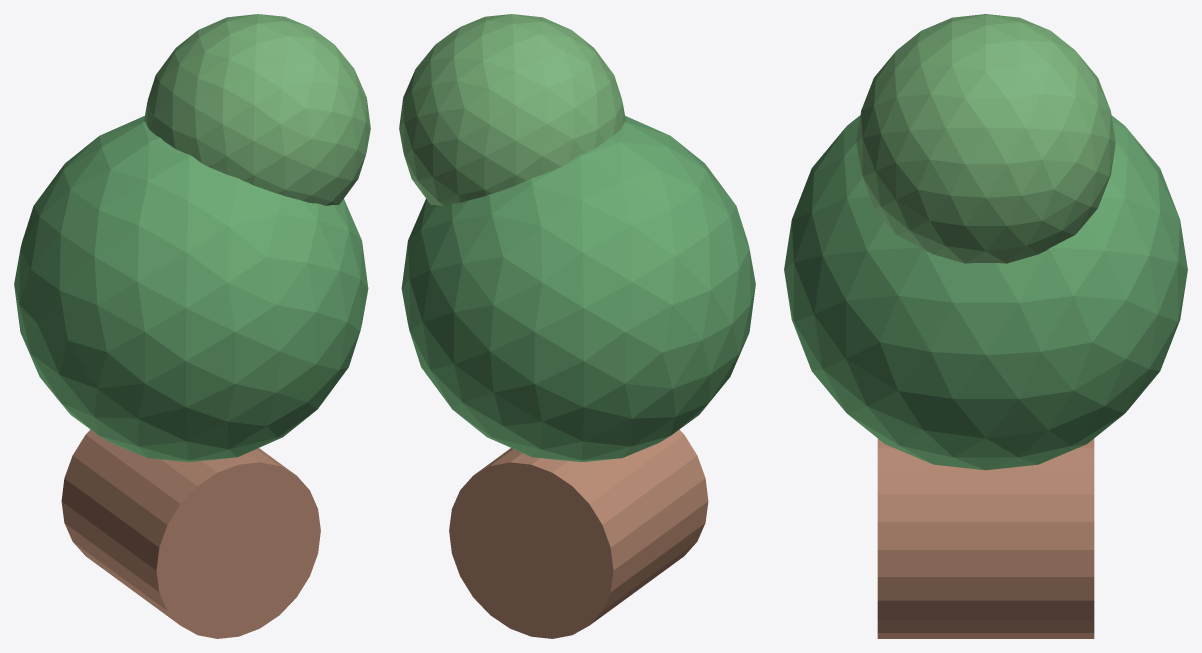
The model's file is plant.glb.
3 views of the same model, side by side, from view 1: azimuth 30°, elevation 25°; view 2: azimuth 150°, elevation 25°; view 3: azimuth 270°, elevation 25° (orthographic). The views are drawn at different scales.
Visible parts, largest first — view 1: geometry_1, geometry_0, geometry_2; view 2: geometry_1, geometry_0, geometry_2; view 3: geometry_1, geometry_2, geometry_0.
Boxes of the visible parts, x1=… form: geometry_1: x1=14, y1=116, x2=368, y2=461; geometry_0: x1=61, y1=429, x2=320, y2=638; geometry_2: x1=144, y1=14, x2=370, y2=205; geometry_1: x1=401, y1=116, x2=755, y2=461; geometry_0: x1=449, y1=429, x2=708, y2=638; geometry_2: x1=399, y1=14, x2=625, y2=205; geometry_1: x1=784, y1=115, x2=1187, y2=470; geometry_2: x1=856, y1=14, x2=1115, y2=263; geometry_0: x1=877, y1=438, x2=1094, y2=638.
Bounding box in the file's own units: 0.58 × 0.98 × 0.56.
